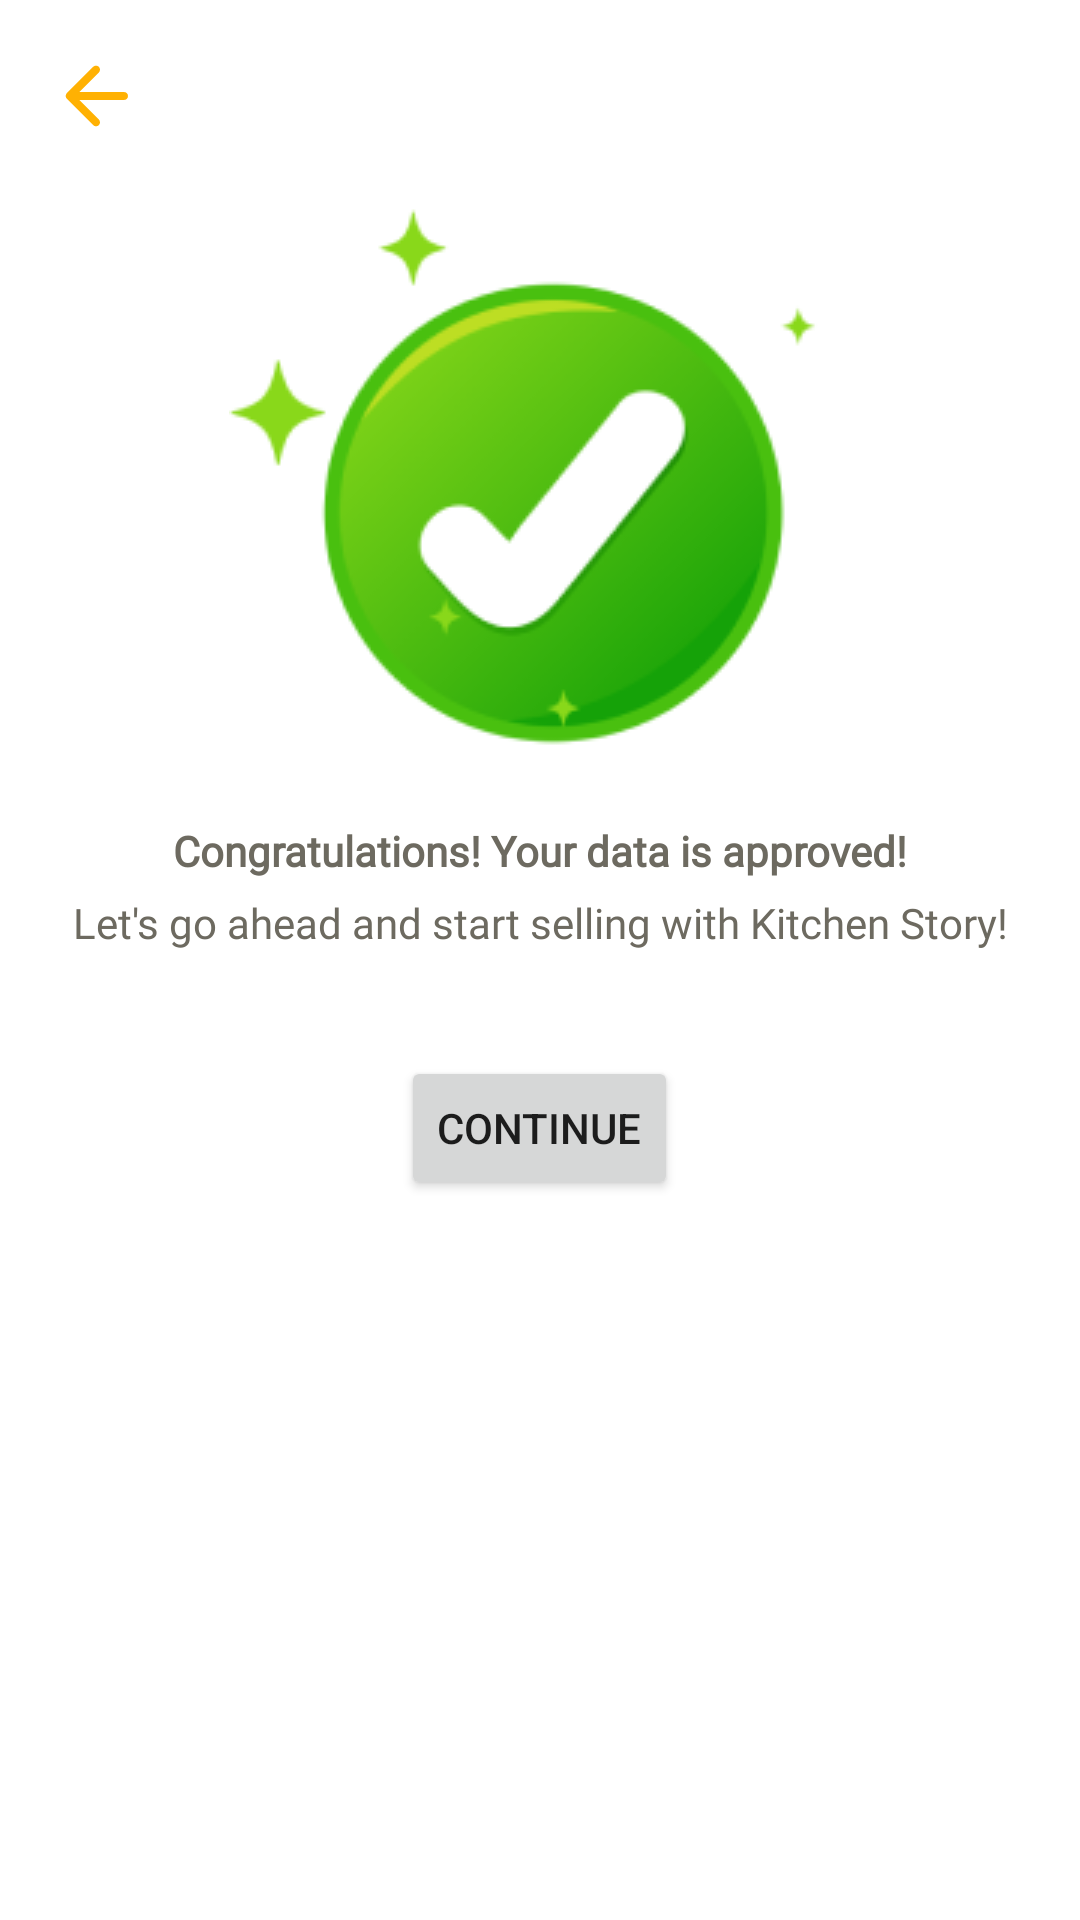

Icons on this 1080*1920 Android screen, each with the point to tap as [x,y]:
back: [96,96]
